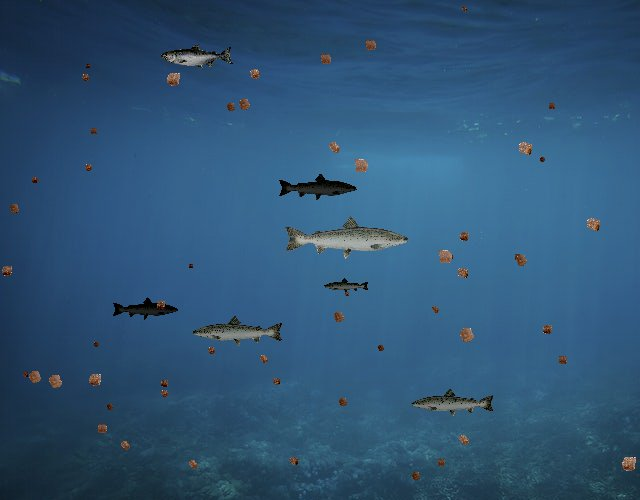Fish: (282, 214, 411, 260), (191, 315, 285, 349), (410, 387, 496, 418), (277, 172, 358, 201), (161, 43, 234, 70), (112, 296, 180, 321), (323, 278, 370, 294)
Pellet: (614, 448, 640, 479), (159, 66, 187, 94), (322, 136, 346, 160), (232, 92, 256, 116), (243, 63, 266, 86), (4, 198, 25, 219), (80, 159, 96, 175), (536, 153, 549, 166), (19, 369, 31, 381)
